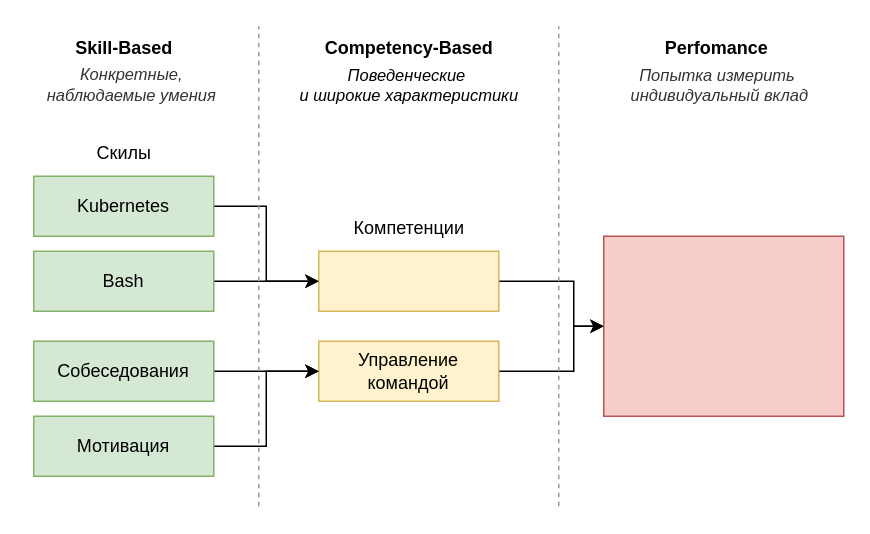
Image size: 870x534. Some labels were removed from this diagram. Here are the shapes that lost their labels. From the top down, the centre of each, then its label:
(x=408, y=280): Экспертность
(x=723, y=325): Результат работы, perfomance
